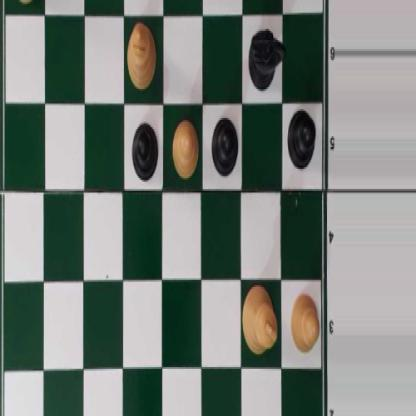black-knight: (247, 27, 285, 91)
black-pawn: (286, 104, 315, 169), (210, 114, 238, 176), (131, 120, 159, 182)
white-bishop: (127, 15, 156, 91)
white-king: (241, 283, 277, 354)
white-pawn: (289, 289, 319, 354), (171, 120, 198, 176)
white-rook: (2, 0, 42, 4)
